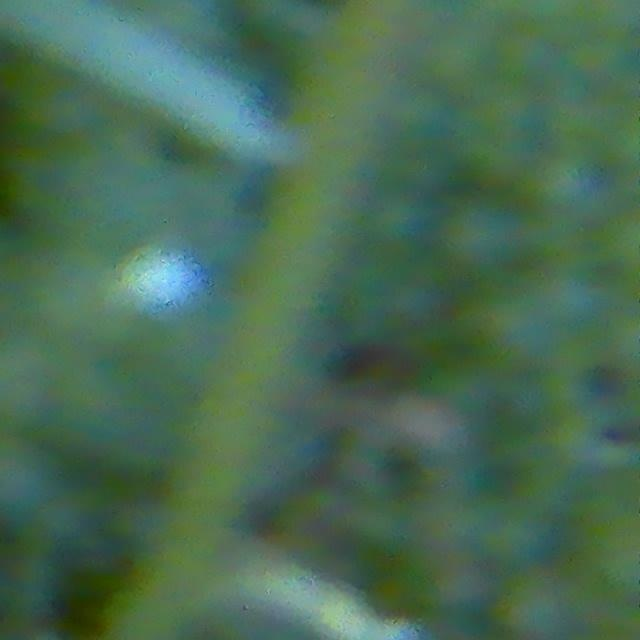SeaGrape: (443, 197, 524, 275), (530, 148, 605, 222), (599, 211, 640, 275)
